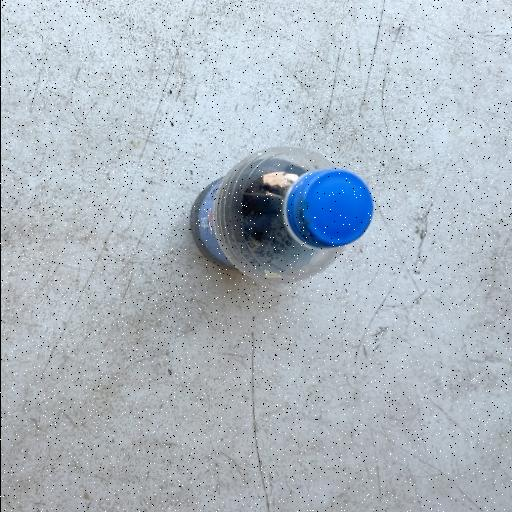Plastic: (188, 144, 376, 284)
